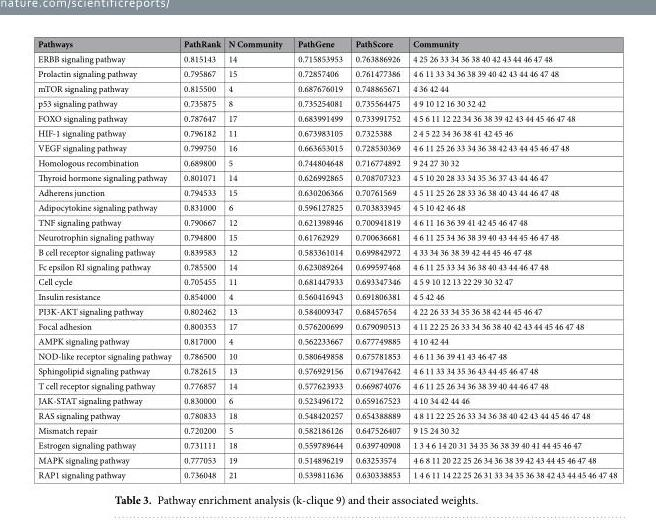table: (37, 37, 616, 480)
table column: (406, 37, 616, 480), (37, 37, 176, 480), (223, 37, 289, 480), (289, 37, 348, 480), (348, 37, 406, 480), (176, 37, 223, 480)
table column header: (37, 37, 616, 50)
table row: (37, 50, 616, 65), (37, 65, 616, 80), (37, 80, 616, 95), (37, 95, 616, 110), (37, 110, 616, 125), (37, 125, 616, 140), (37, 154, 616, 169), (37, 169, 616, 184), (37, 184, 616, 199), (37, 199, 616, 214), (37, 214, 616, 229), (37, 229, 616, 244), (37, 244, 616, 259), (37, 273, 616, 288), (37, 288, 616, 303), (37, 303, 616, 318), (37, 318, 616, 333), (37, 333, 616, 348), (37, 348, 616, 363), (37, 377, 616, 392), (37, 392, 616, 407), (37, 407, 616, 422), (37, 422, 616, 437), (37, 437, 616, 452), (37, 452, 616, 467), (37, 140, 616, 154), (37, 259, 616, 273), (37, 363, 616, 377), (37, 37, 616, 50), (37, 467, 616, 480)
